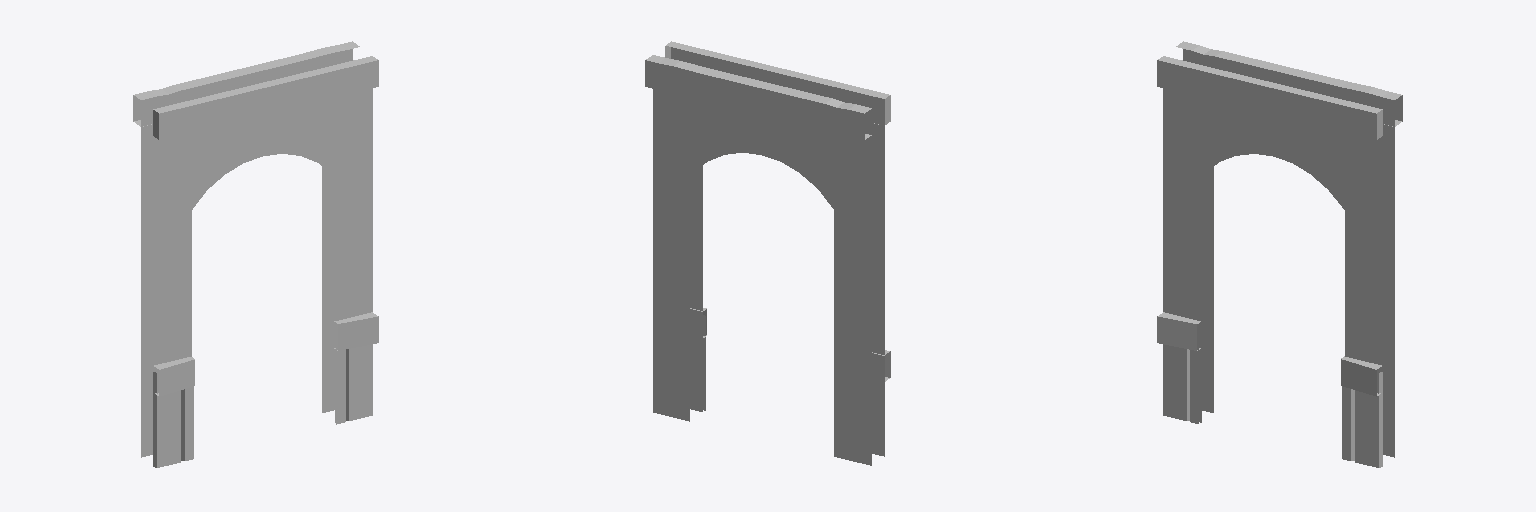
Rendered from Wall_WoodBrick_Door_Round.obj.
3 views of the same model, side by side, from view 1: azimuth 30°, elevation 25°; view 2: azimuth 150°, elevation 25°; view 3: azimuth 330°, elevation 25° (orthographic).
Visible parts, largest first — view 1: Wall_WoodBrick_Door_Round; view 2: Wall_WoodBrick_Door_Round; view 3: Wall_WoodBrick_Door_Round.
Boxes of the visible parts, box(x1,y1,x2,y2) form: Wall_WoodBrick_Door_Round: box(133, 41, 378, 467); Wall_WoodBrick_Door_Round: box(645, 41, 890, 465); Wall_WoodBrick_Door_Round: box(1157, 41, 1402, 467).
Size of the model in its own units: 2 by 3.12 by 0.4065.